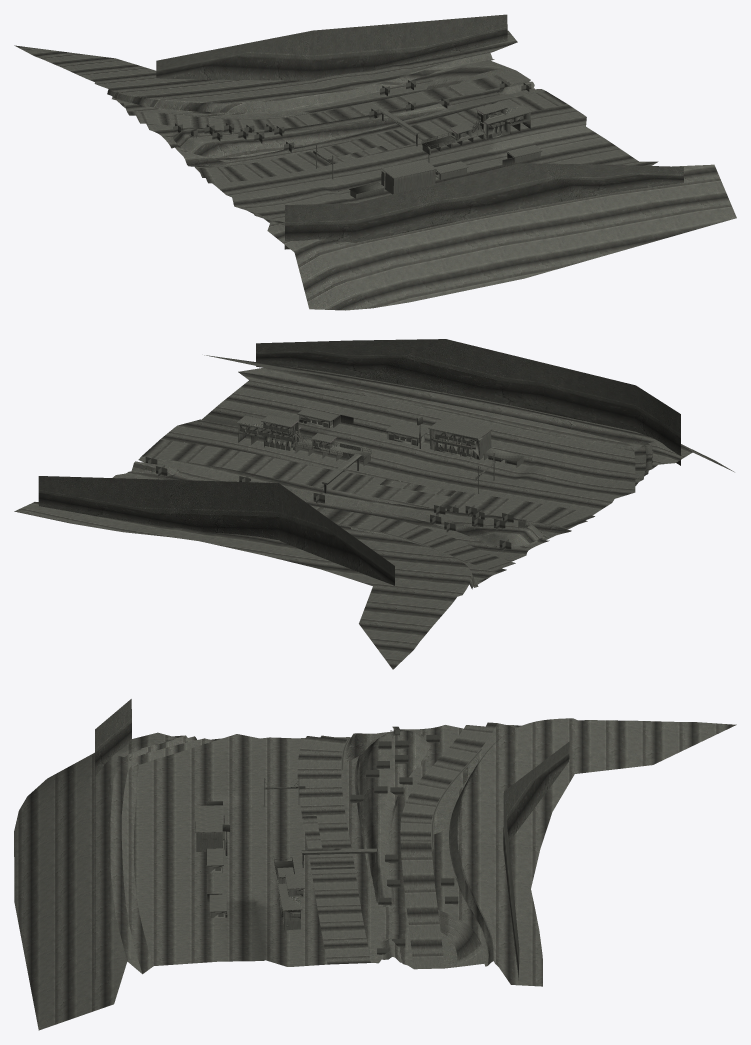
File: ebisuw2.glb
3 views of the same model, one above another, from view 1: azimuth 30°, elevation 25°; view 2: azimuth 150°, elevation 25°; view 3: azimuth 270°, elevation 25° (orthographic). The views are drawn at different scales.
Parts seen in each view (by area): view 1: ebisuw2; view 2: ebisuw2; view 3: ebisuw2.
Part boxes in pixels (<box>): ebisuw2: <box>14,14,736,310</box>; ebisuw2: <box>14,339,734,669</box>; ebisuw2: <box>14,699,736,1030</box>.
Size of the model in its own units: 231 by 48.94 by 287.
Materials: 1 (1 with a texture image).
